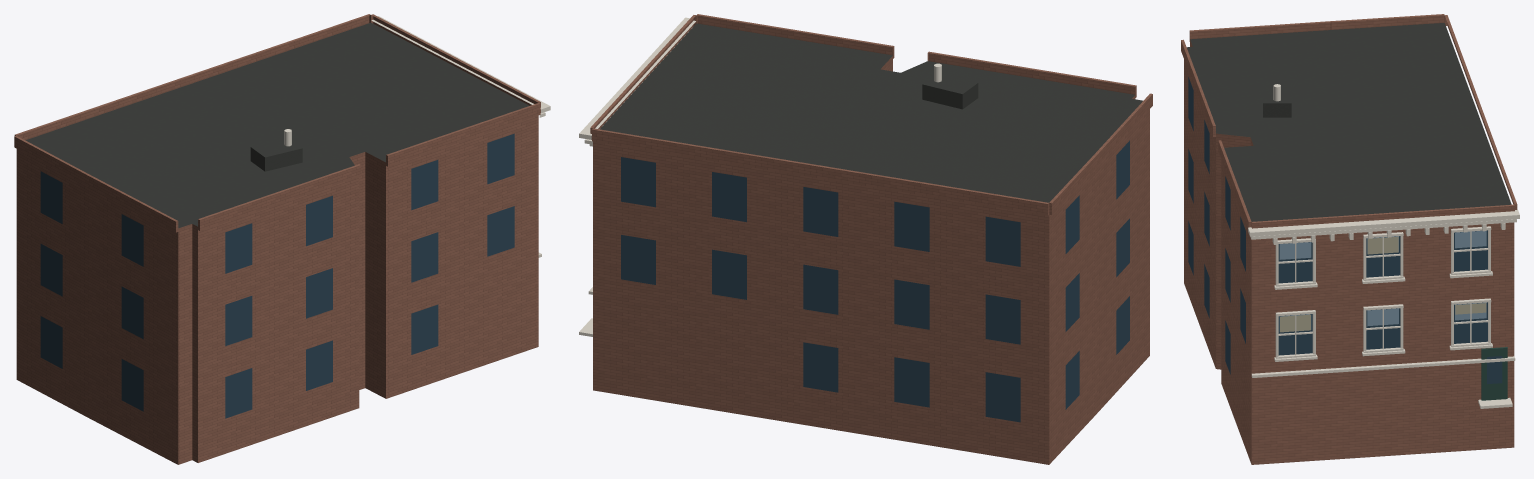
3 renders of one model, left to right at view 1: azimuth 30°, elevation 25°; view 2: azimuth 150°, elevation 25°; view 3: azimuth 270°, elevation 25°, orthographic. The views are drawn at different scales.
Visible parts, largest first — view 1: Footprint 0 / surface 2, Footprint 0 / surface 1, Inset glazing, Facade bay volumes, Cornices and window frames, Inferred rooftop service enclosure / surface 5; view 2: Footprint 0 / surface 2, Footprint 0 / surface 1, Inset glazing, Facade bay volumes, Cornices and window frames, Inferred rooftop service enclosure / surface 6, Inferred rooftop service enclosure / surface 3; view 3: Footprint 0 / surface 2, Footprint 0 / surface 1, Cornices and window frames, Inset glazing, Facade bay volumes, Sky reflection panels, Interior blind variation, Storefronts and doors, Inferred rooftop service enclosure / surface 3, Inferred rooftop service enclosure / surface 1.
Part boxes in pixels (x1,y1,x2,y2): Footprint 0 / surface 2: (16, 115, 538, 464); Footprint 0 / surface 1: (25, 22, 529, 228); Inset glazing: (40, 133, 514, 418); Facade bay volumes: (14, 14, 540, 232); Cornices and window frames: (371, 16, 550, 257); Inferred rooftop service enclosure / surface 5: (265, 148, 302, 171); Footprint 0 / surface 2: (593, 56, 1149, 464); Footprint 0 / surface 1: (600, 23, 1142, 202); Inset glazing: (621, 140, 1129, 422); Facade bay volumes: (590, 14, 1152, 215); Cornices and window frames: (579, 17, 695, 336); Inferred rooftop service enclosure / surface 6: (922, 84, 962, 109); Inferred rooftop service enclosure / surface 3: (922, 74, 977, 93); Footprint 0 / surface 2: (1184, 39, 1514, 464); Footprint 0 / surface 1: (1187, 23, 1511, 221); Cornices and window frames: (1248, 209, 1519, 408); Inset glazing: (1188, 77, 1502, 384); Facade bay volumes: (1181, 14, 1517, 229); Sky reflection panels: (1279, 230, 1486, 331); Interior blind variation: (1280, 236, 1486, 332); Storefronts and doors: (1481, 347, 1507, 400); Inferred rooftop service enclosure / surface 3: (1263, 85, 1291, 103); Inferred rooftop service enclosure / surface 1: (1263, 103, 1291, 117).
Bounding box in the file's own units: 21 × 12.11 × 14.1.
